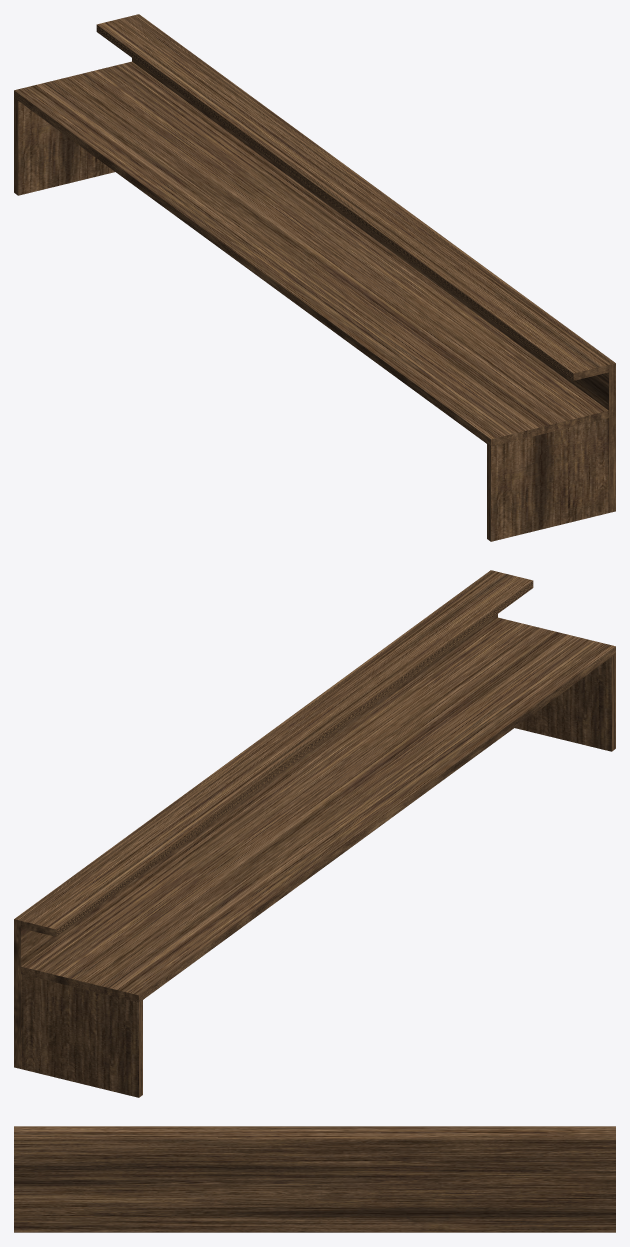
Rendered from Reception.fbx.
3 renders of one model, top to bottom at view 1: azimuth 30°, elevation 25°; view 2: azimuth 150°, elevation 25°; view 3: azimuth 270°, elevation 25°, orthographic. The views are drawn at different scales.
Parts seen in each view (by area): view 1: Cube, Cube.002, Cube.003, Cube.001, Cube.004; view 2: Cube, Cube.002, Cube.004, Cube.001, Cube.003; view 3: Cube.001, Cube.002.
Boxes of the visible parts, x1,y1,x2,y2 form: Cube: (14,61,608,446); Cube.002: (96,16,608,380); Cube.003: (487,418,608,541); Cube.001: (132,14,615,512); Cube.004: (14,98,114,195); Cube: (21,617,615,1002); Cube.002: (21,572,533,936); Cube.004: (21,974,142,1097); Cube.001: (14,570,497,1068); Cube.003: (515,654,615,751); Cube.001: (14,1137,615,1232); Cube.002: (14,1126,615,1136).
Bounding box in the file's own units: 106 × 120 × 700.
